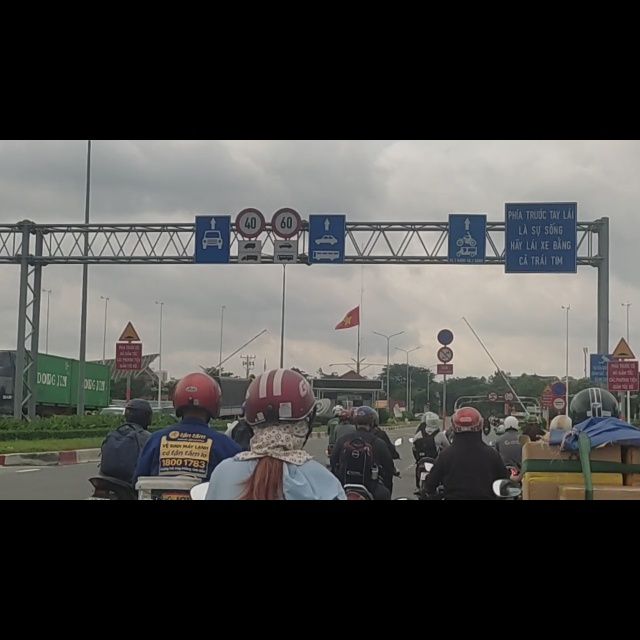bien_cam: (271, 120, 303, 172), (235, 120, 265, 175), (589, 377, 611, 430), (612, 351, 637, 391), (118, 316, 141, 358), (437, 364, 454, 396), (437, 334, 454, 365), (553, 429, 567, 455), (553, 457, 567, 480), (504, 444, 515, 466), (542, 429, 553, 450), (488, 446, 499, 466)
